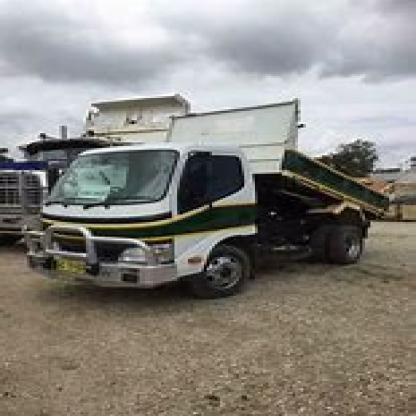dump_truck: (13, 85, 410, 327)
